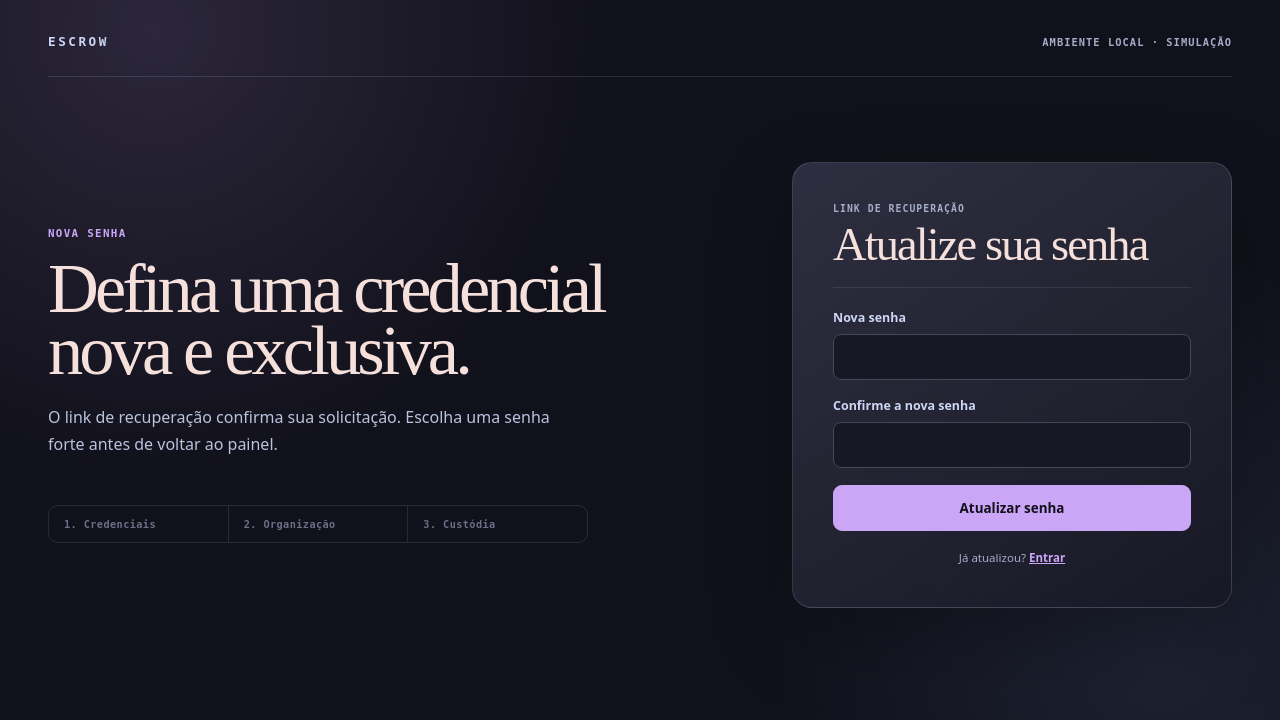
Test: acesso da organização › aceita a nova senha somente pelo link opaco de recuperação
The width and height of the screenshot is (1280, 720).
Type "UmaSenhaNovaLonga#2026" into the password field labelled "Nova senha". click: (1012, 357)
box: [833,334,1191,380]
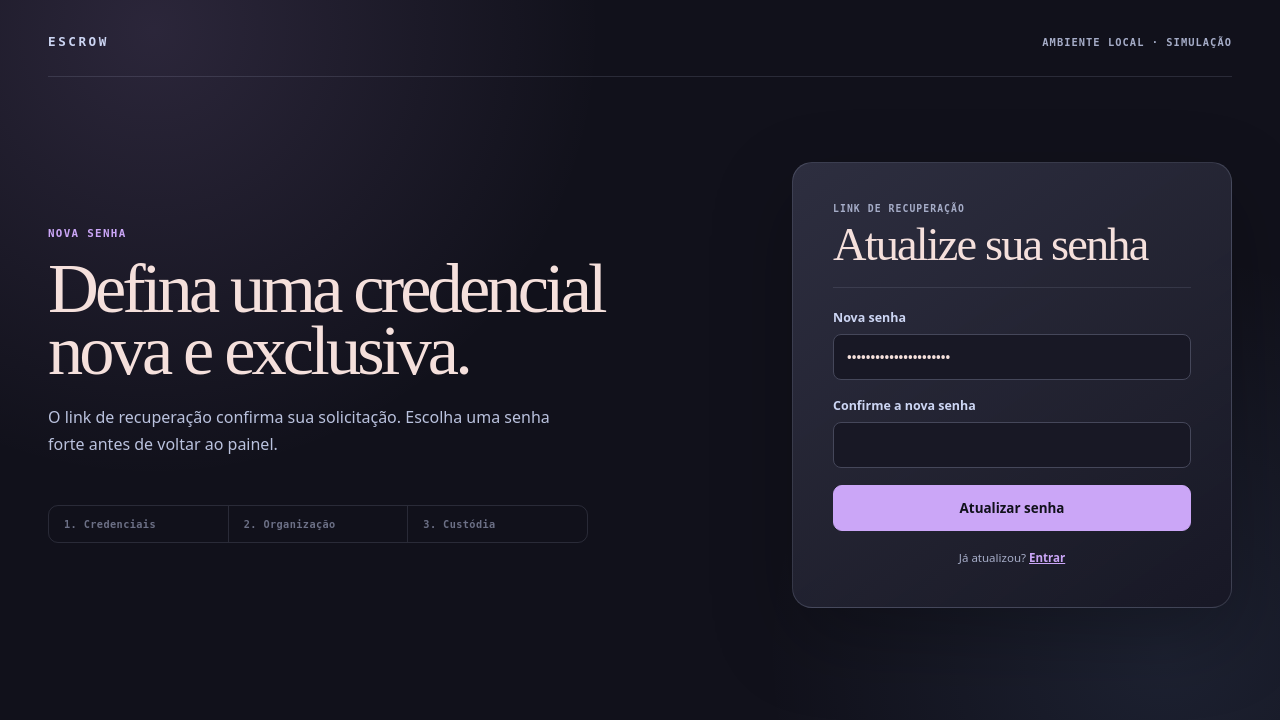
Type "UmaSenhaNovaLonga#2026" into the password field labelled "Confirme a nova senha". click: (1012, 445)
box: [833,422,1191,468]
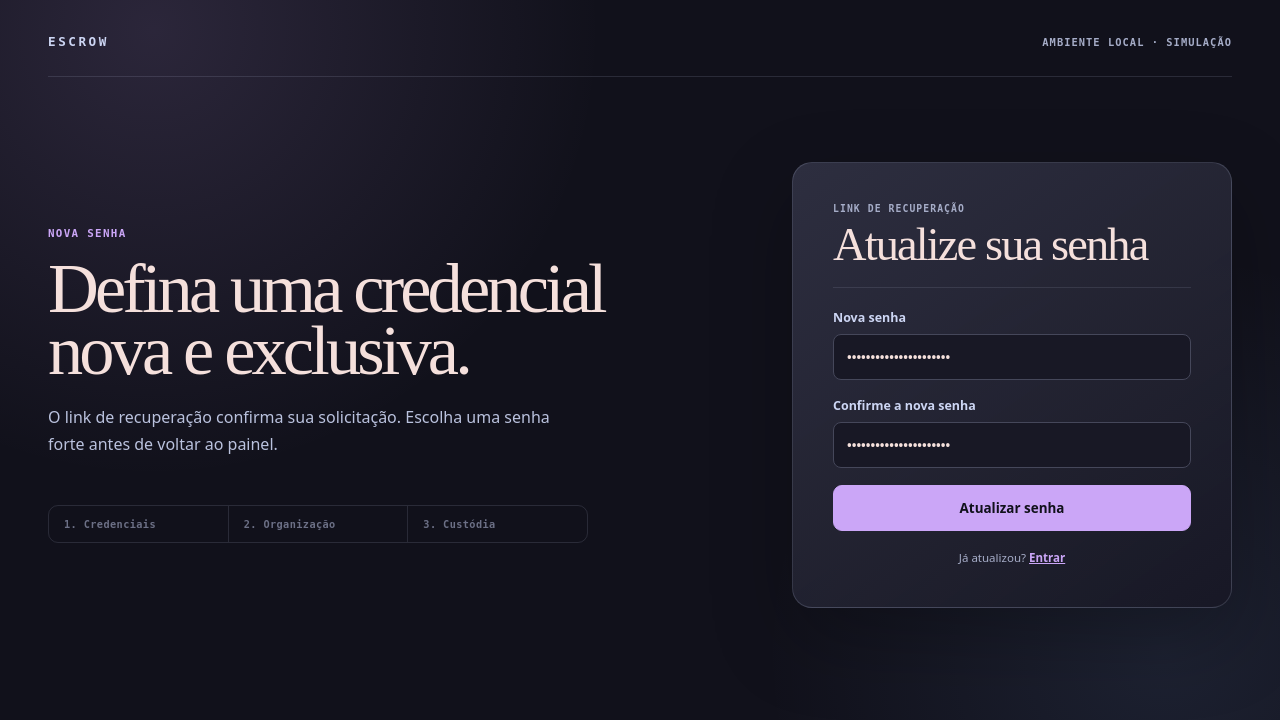
Click the button "Atualizar senha". click: click(1012, 508)
box: [833,485,1191,531]
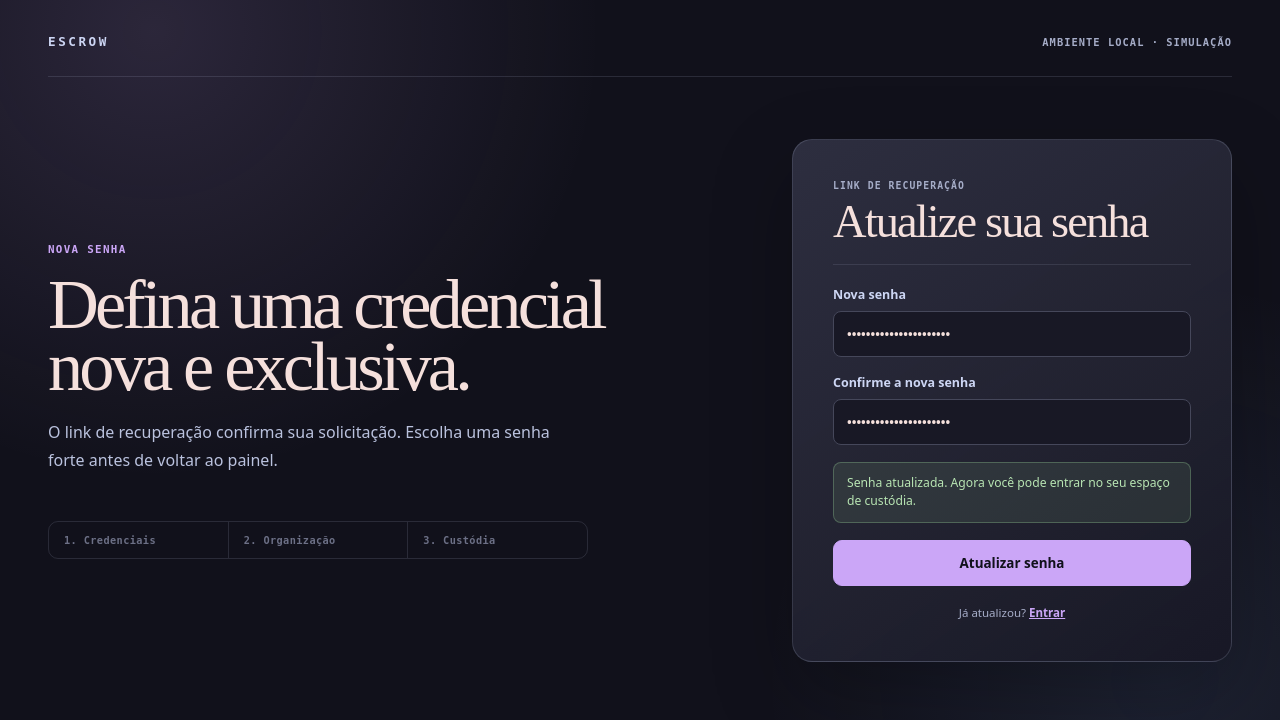
Now the text "Senha atualizada. Agora você pode entrar no seu espaço de custódia." is shown, box [833,462,1191,523]
